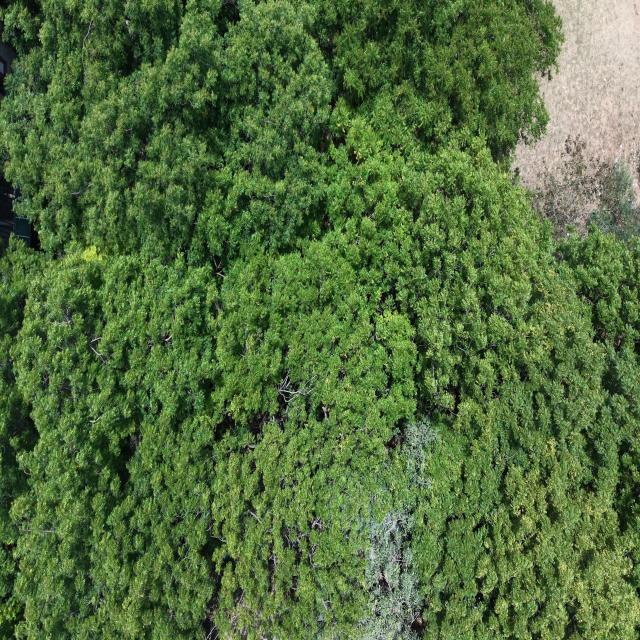DRY_AREA: (513, 0, 639, 195)
VEGETATION_TREE: (0, 0, 639, 639), (533, 136, 639, 240)
